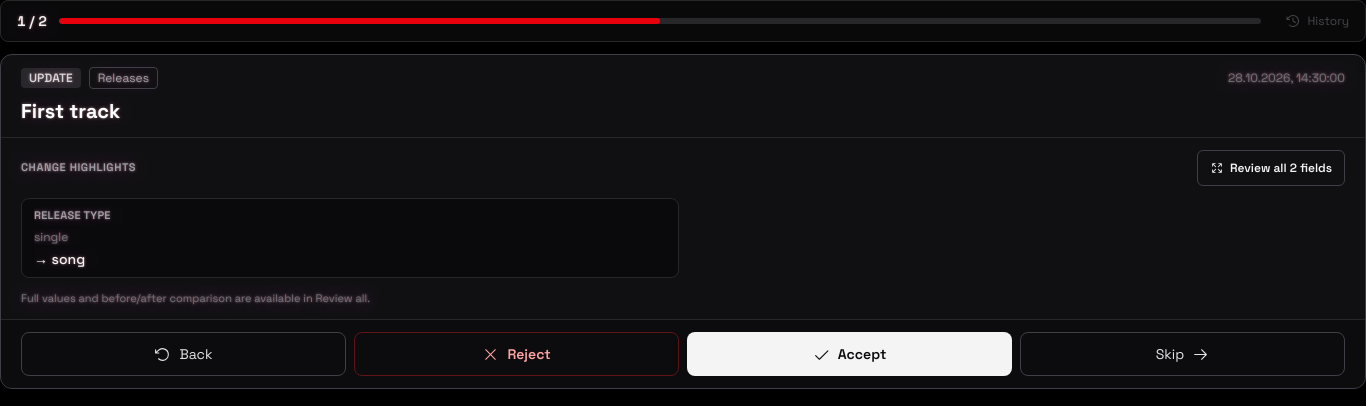
Test: AI content review carousel › advances immediately while saving and does not report success before the server
Click the button "Accept". click: {"x": 850, "y": 354}
box: [687,332,1012,376]
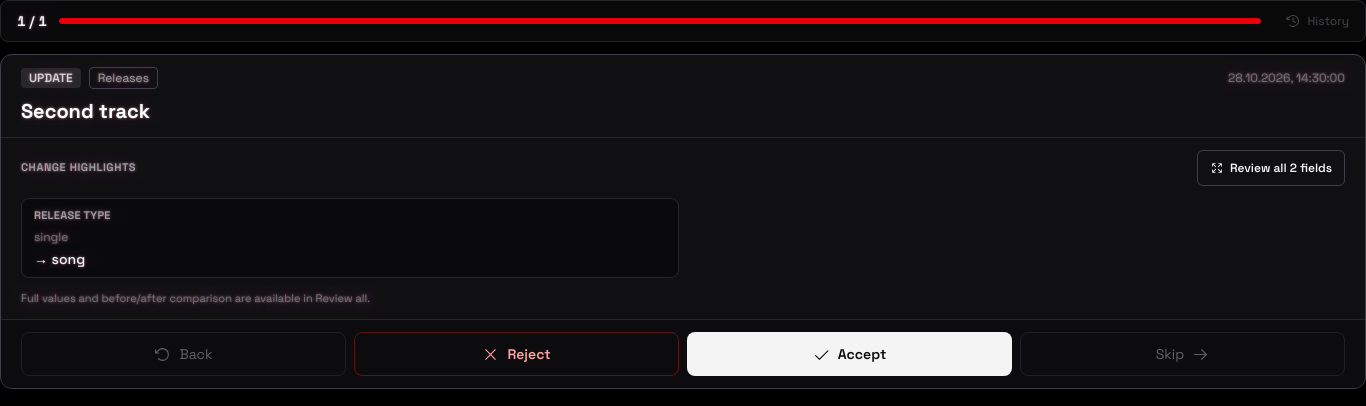
Expected: the heading "Second track" is shown, [21,98,150,124]
